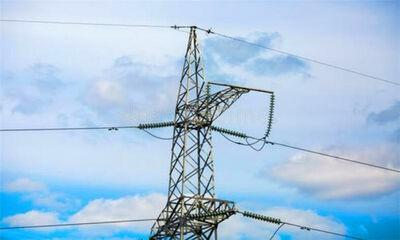power_tower: (144, 27, 247, 240)
